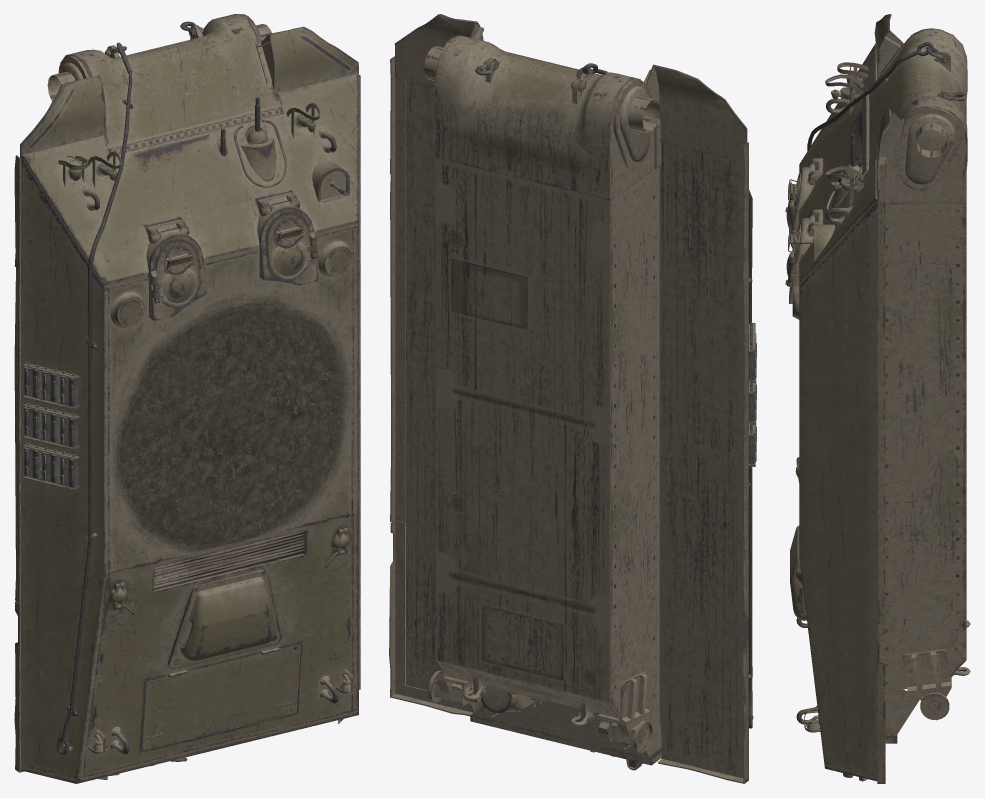
The model's file is Hull.glb.
3 renders of one model, left to right at view 1: azimuth 30°, elevation 25°; view 2: azimuth 150°, elevation 25°; view 3: azimuth 270°, elevation 25°, orthographic. The views are drawn at different scales.
Parts seen in each view (by area): view 1: set_0_group_0; view 2: set_0_group_0; view 3: set_0_group_0.
Boxes of the visible parts, left/top/right/bottom form: set_0_group_0: left=14, top=14, right=360, bottom=783; set_0_group_0: left=389, top=14, right=756, bottom=783; set_0_group_0: left=785, top=14, right=970, bottom=783.
Bounding box in the file's own units: 3.23 × 6.18 × 1.59.
Materials: 1 (1 with a texture image).
